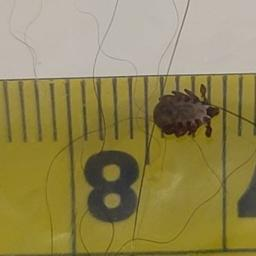Rhipicephalus sanguineus: (152, 82, 220, 138)
